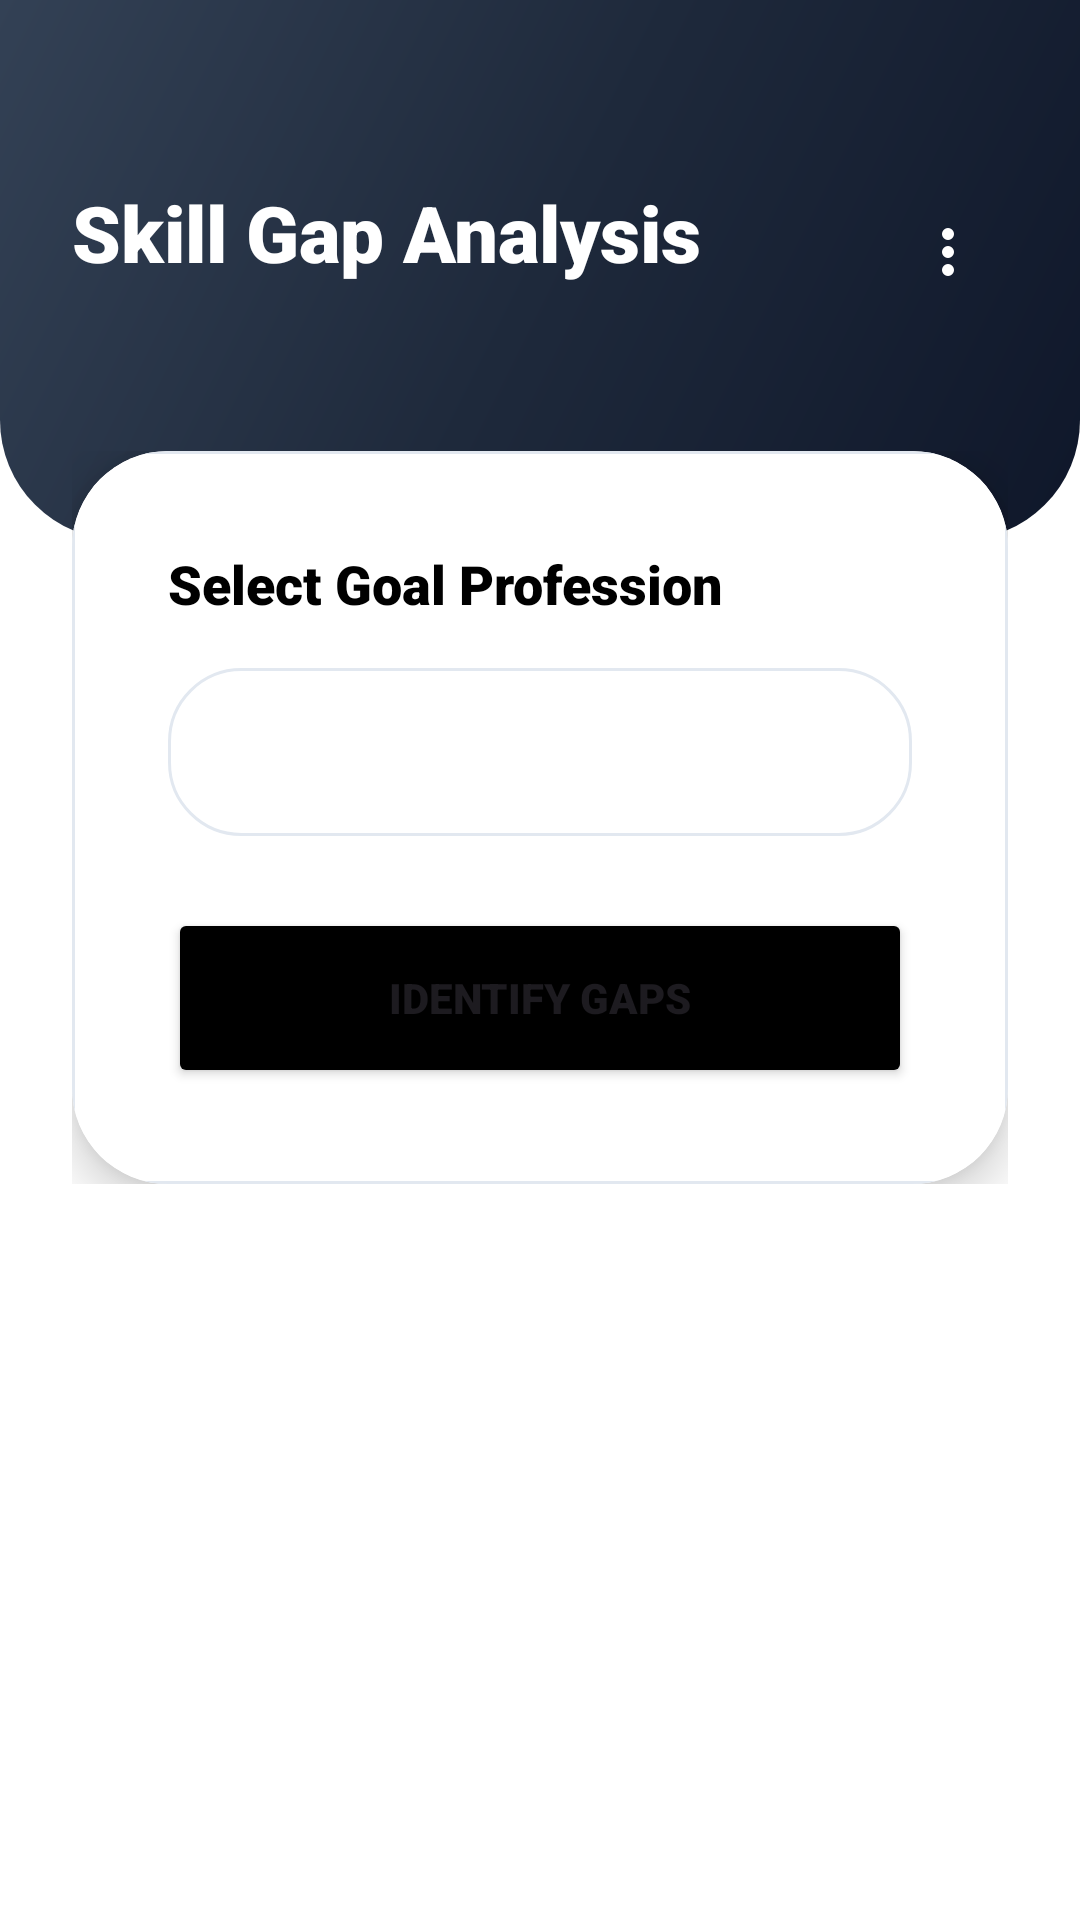

Named icons in this screenshot (1080 x 1920) and their centers, (x,y):
Menu: (948,252)
